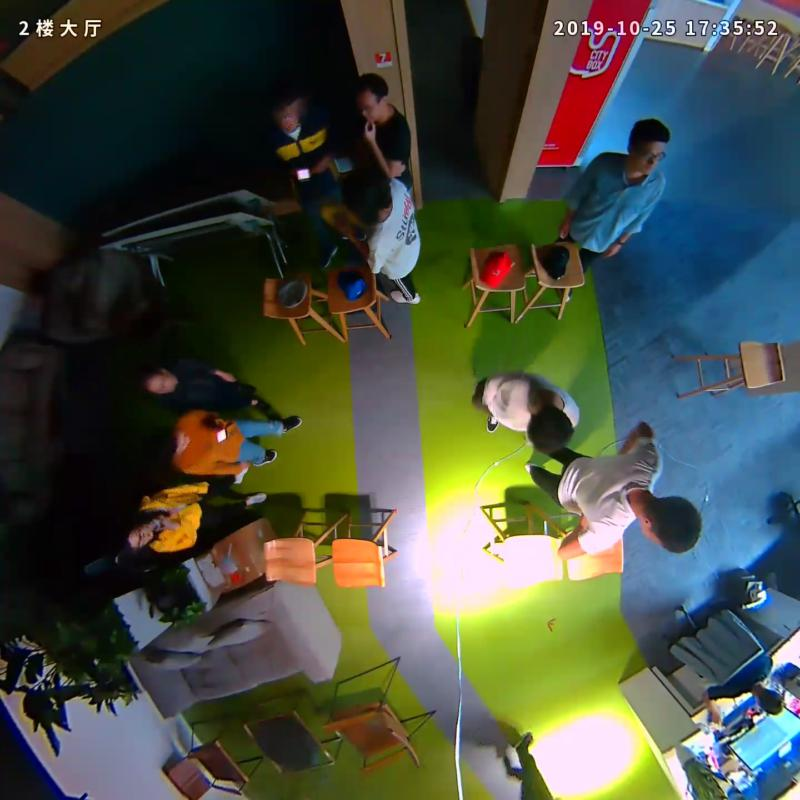head: (634, 486, 707, 558), (334, 165, 398, 221), (258, 75, 314, 139), (521, 403, 582, 460), (621, 115, 672, 181), (343, 70, 392, 130), (135, 421, 194, 466), (123, 360, 181, 405), (110, 514, 169, 555)
